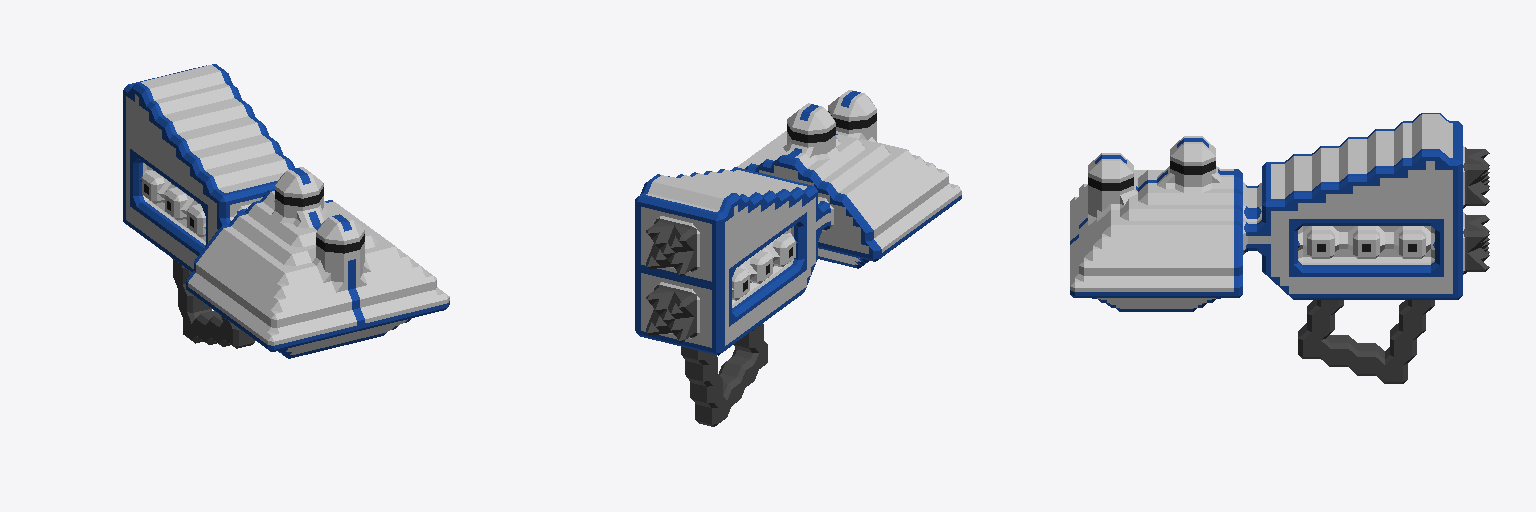
3 renders of one model, left to right at view 1: azimuth 30°, elevation 25°; view 2: azimuth 150°, elevation 25°; view 3: azimuth 270°, elevation 25°, orthographic.
Bounding box in the file's own units: 23 × 30 × 46.
1 materials, 1 textured.